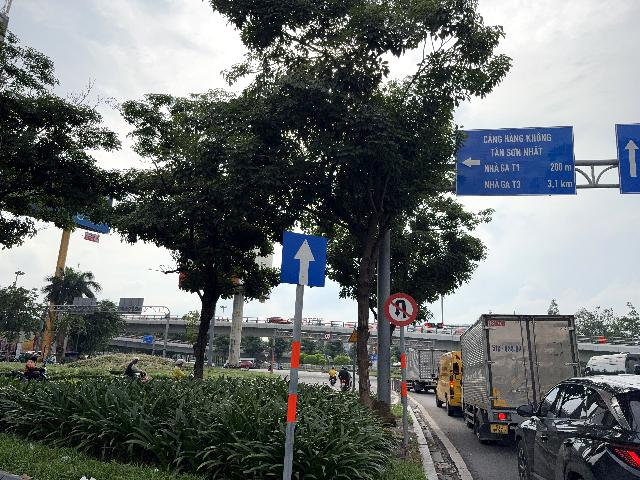cam-quay-dau-xe: (383, 292, 417, 327)
duong-mot-chieu: (280, 230, 327, 287)
